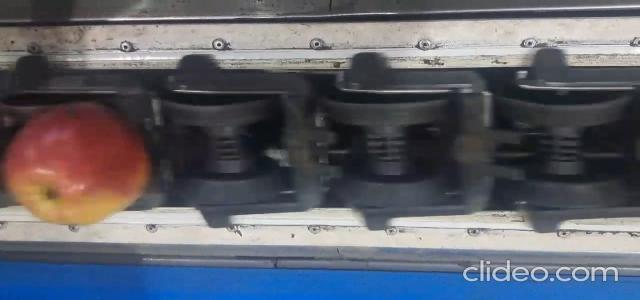apple: (4, 103, 150, 224)
